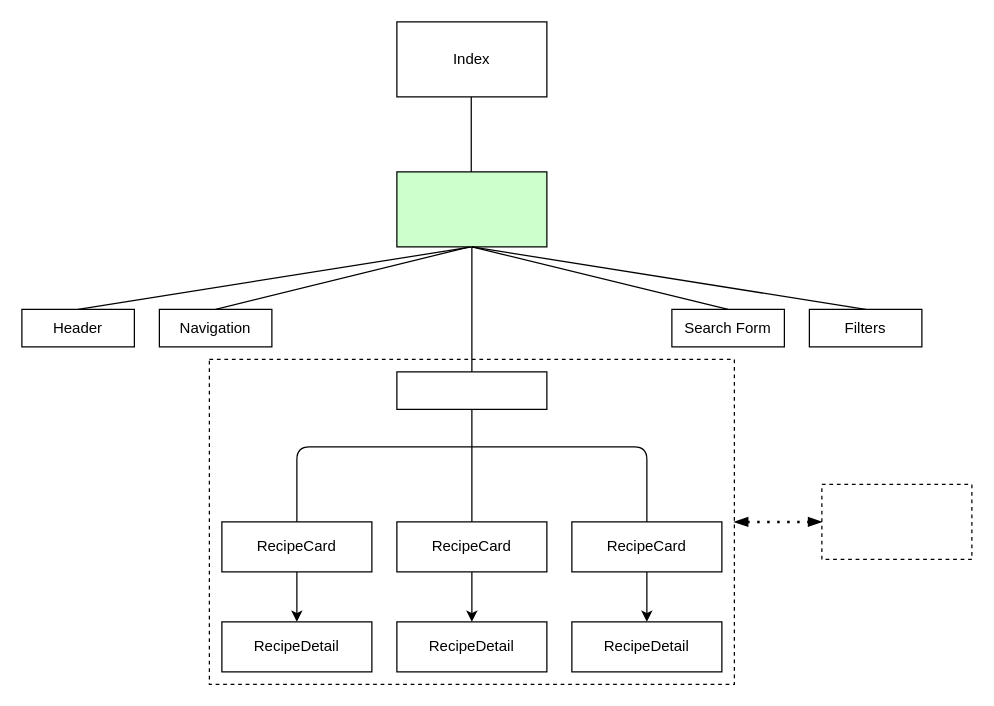
Image size: 994x706. Some labels were removed from this diagram. Here are the shapes that lost their labels. From the top down, the box of each, then its label:
(396, 171, 547, 247): App
(396, 371, 547, 409): Recipes
(821, 483, 972, 559): Spoontacular API
